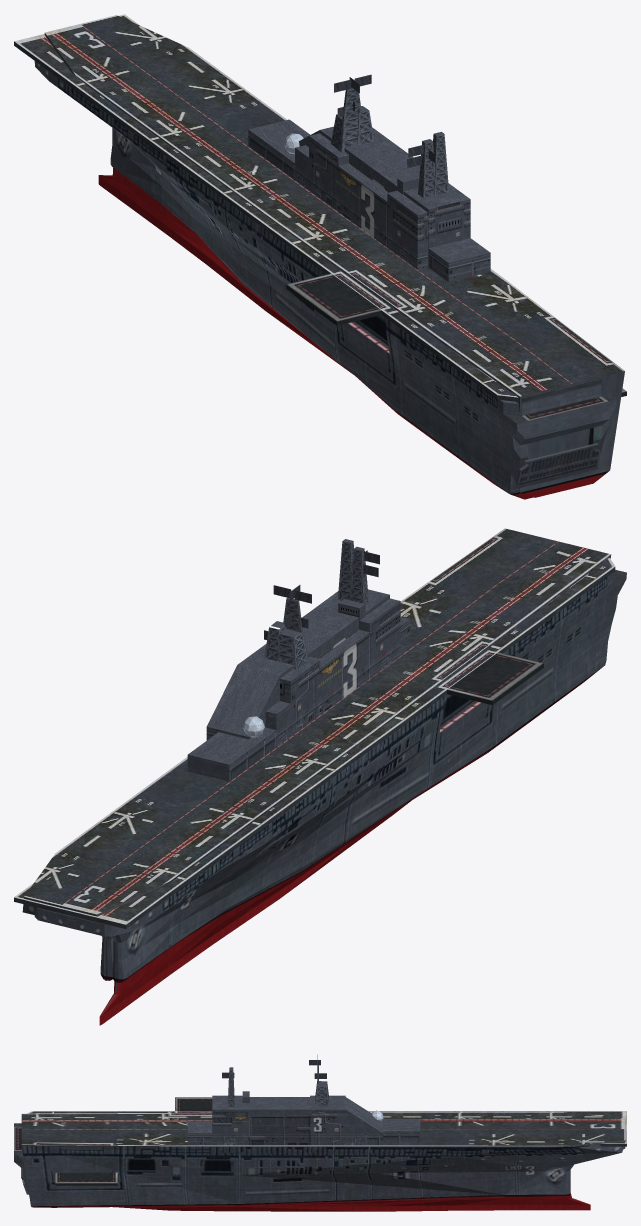
The picture shows the model from 3 angles, top to bottom: view 1: azimuth 30°, elevation 25°; view 2: azimuth 150°, elevation 25°; view 3: azimuth 270°, elevation 25°; orthographic projection. The views are drawn at different scales.
Parts seen in each view (by area): view 1: Mesh1 Geode1 skpFAB1_1 Model, Mesh6 Geode2_1 skpFAB1_1 Model, Mesh5 Geode1_1 skpFAB1_1 Model, Mesh4 Geode0_1 skpFAB1_1 Model, Mesh8 Geode4_1 skpFAB1_1 Model, Mesh24 Geode7_1 skpFAB1_1 Model, Mesh20 Geode5_1 skpFAB1_1 Model, Mesh3 Geode0_1 skpFAB1_1 Model, Mesh21 Geode5_1 skpFAB1_1 Model; view 2: Mesh6 Geode2_1 skpFAB1_1 Model, Mesh1 Geode1 skpFAB1_1 Model, Mesh5 Geode1_1 skpFAB1_1 Model, Mesh4 Geode0_1 skpFAB1_1 Model, Mesh8 Geode4_1 skpFAB1_1 Model, Mesh20 Geode5_1 skpFAB1_1 Model, Mesh21 Geode5_1 skpFAB1_1 Model, Mesh3 Geode0_1 skpFAB1_1 Model; view 3: Mesh1 Geode1 skpFAB1_1 Model, Mesh4 Geode0_1 skpFAB1_1 Model, Mesh6 Geode2_1 skpFAB1_1 Model, Mesh5 Geode1_1 skpFAB1_1 Model, Mesh7 Geode3_1 skpFAB1_1 Model, Mesh8 Geode4_1 skpFAB1_1 Model, Mesh2 Geode0_1 skpFAB1_1 Model.
Part boxes in pixels (x1=…): Mesh1 Geode1 skpFAB1_1 Model: x1=44, y1=15, x2=624, y2=497; Mesh6 Geode2_1 skpFAB1_1 Model: x1=14, y1=14, x2=616, y2=499; Mesh5 Geode1_1 skpFAB1_1 Model: x1=248, y1=119, x2=428, y2=269; Mesh4 Geode0_1 skpFAB1_1 Model: x1=299, y1=126, x2=490, y2=281; Mesh8 Geode4_1 skpFAB1_1 Model: x1=286, y1=273, x2=381, y2=325; Mesh24 Geode7_1 skpFAB1_1 Model: x1=516, y1=443, x2=600, y2=484; Mesh20 Geode5_1 skpFAB1_1 Model: x1=331, y1=87, x2=361, y2=152; Mesh3 Geode0_1 skpFAB1_1 Model: x1=433, y1=132, x2=448, y2=195; Mesh21 Geode5_1 skpFAB1_1 Model: x1=418, y1=139, x2=434, y2=197; Mesh6 Geode2_1 skpFAB1_1 Model: x1=14, y1=558, x2=626, y2=1025; Mesh1 Geode1 skpFAB1_1 Model: x1=22, y1=528, x2=611, y2=980; Mesh5 Geode1_1 skpFAB1_1 Model: x1=187, y1=598, x2=400, y2=781; Mesh4 Geode0_1 skpFAB1_1 Model: x1=206, y1=589, x2=410, y2=740; Mesh8 Geode4_1 skpFAB1_1 Model: x1=447, y1=652, x2=543, y2=705; Mesh20 Geode5_1 skpFAB1_1 Model: x1=279, y1=597, x2=308, y2=669; Mesh21 Geode5_1 skpFAB1_1 Model: x1=349, y1=546, x2=368, y2=604; Mesh3 Geode0_1 skpFAB1_1 Model: x1=337, y1=539, x2=353, y2=600; Mesh1 Geode1 skpFAB1_1 Model: x1=21, y1=1112, x2=625, y2=1207; Mesh4 Geode0_1 skpFAB1_1 Model: x1=187, y1=1097, x2=383, y2=1145; Mesh6 Geode2_1 skpFAB1_1 Model: x1=14, y1=1111, x2=626, y2=1211; Mesh5 Geode1_1 skpFAB1_1 Model: x1=212, y1=1095, x2=420, y2=1141; Mesh7 Geode3_1 skpFAB1_1 Model: x1=55, y1=1172, x2=117, y2=1185; Mesh8 Geode4_1 skpFAB1_1 Model: x1=175, y1=1097, x2=212, y2=1110; Mesh2 Geode0_1 skpFAB1_1 Model: x1=315, y1=1083, x2=329, y2=1105.
Size of the model in its own units: 2.45 by 3.16 by 10.99.
4 materials, 4 textured.
